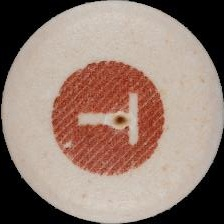0078-0512: (0, 0, 224, 224)
